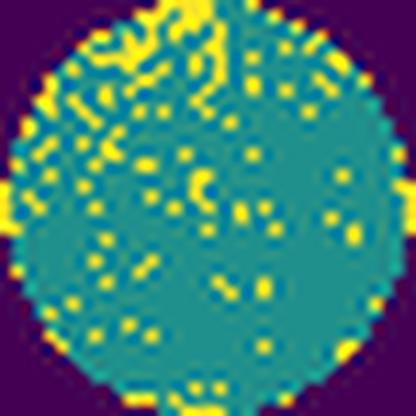Edge-Loc: (81, 0, 222, 86)
